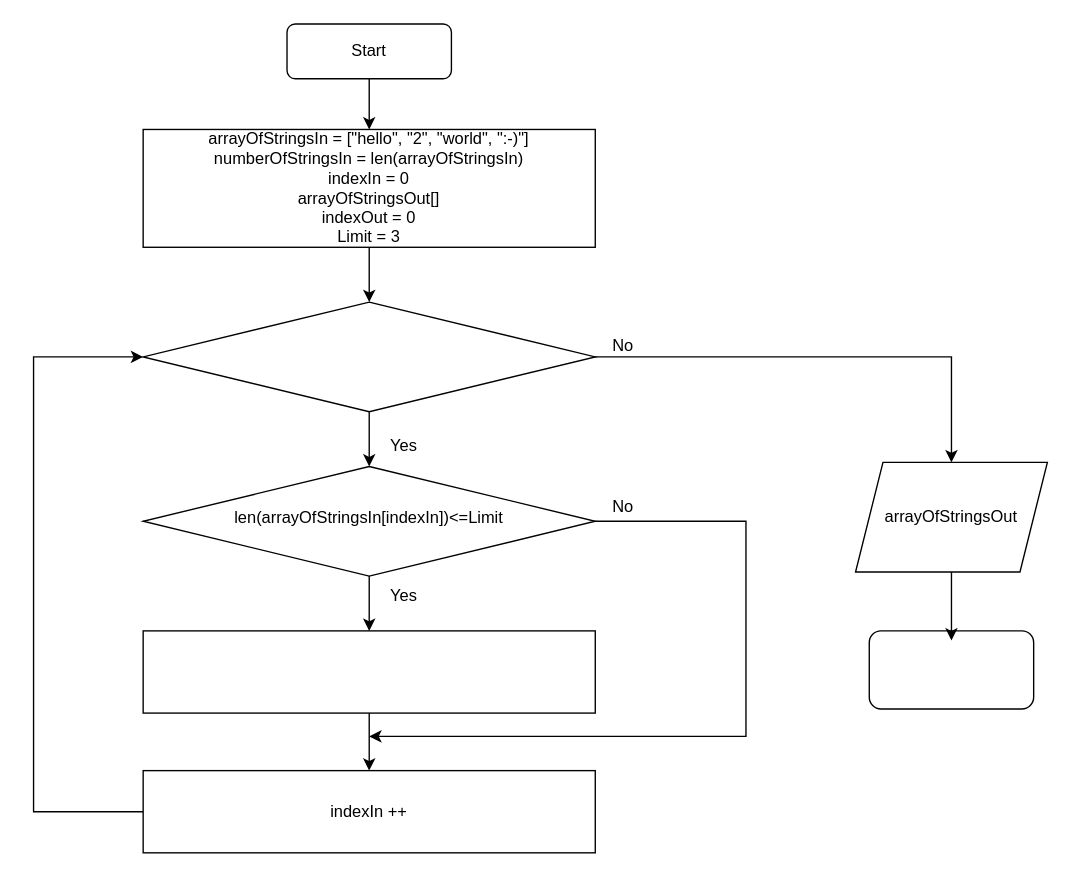
Some shapes in this 1071 by 877 pixel diagram are drawn without their labels. The shapes that lost their labels are listed below. From the top down, each one's box as (x1, y1, x2, y2) in pixels, then its label:
(142, 301, 595, 412): indexIn < numberOfStringsIn
(142, 630, 595, 713): arrayOfStringsOut[indexOut] = arrayOfStringsIn[indexIn] indexOut ++
(868, 630, 1034, 709): Stop
